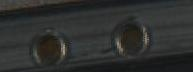joints: (29, 25, 70, 69), (112, 14, 151, 58)
